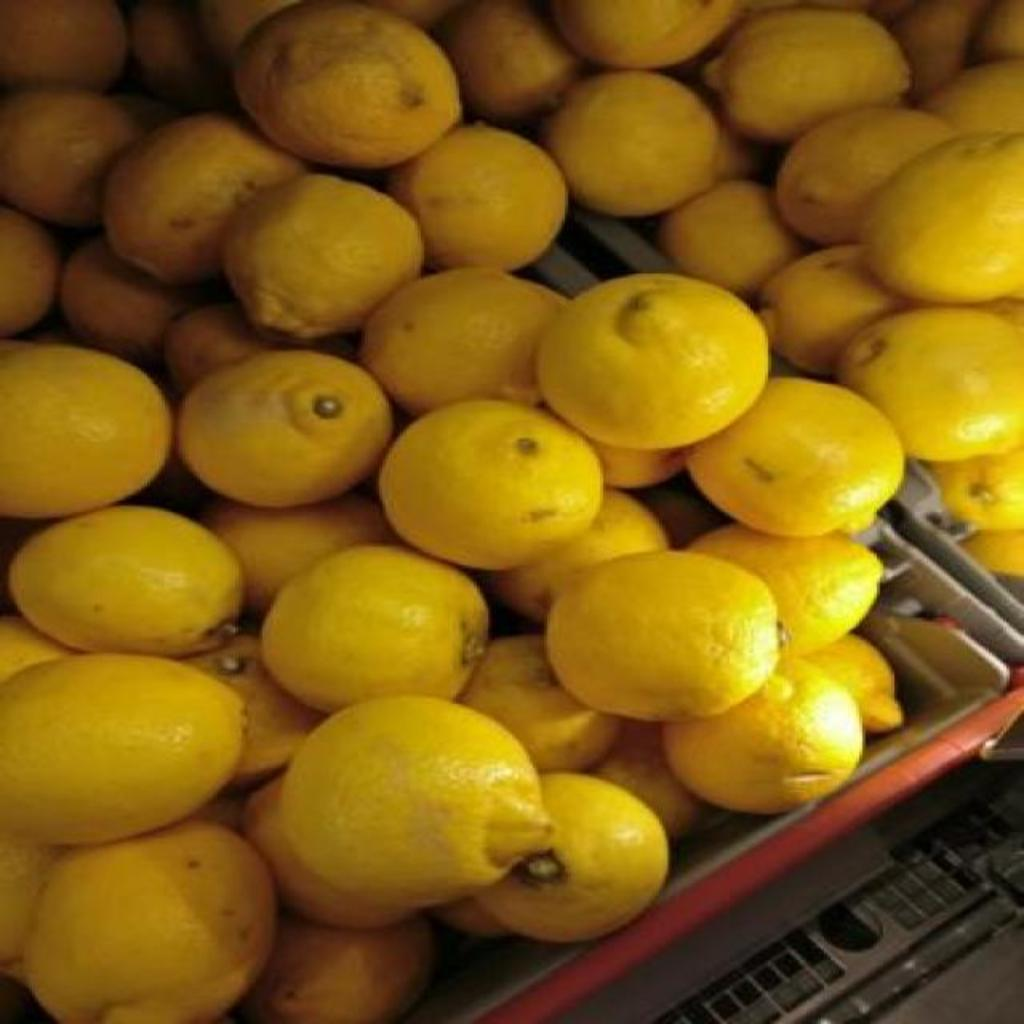lemon: (248, 696, 552, 927), (24, 820, 276, 1024), (0, 654, 244, 844), (536, 274, 770, 450), (546, 552, 780, 721), (378, 400, 602, 569), (236, 2, 460, 168), (264, 546, 486, 711), (102, 114, 306, 283), (686, 378, 904, 536), (10, 506, 242, 653), (178, 350, 392, 507), (222, 174, 424, 338), (476, 774, 668, 942), (664, 658, 864, 813), (0, 344, 172, 517), (360, 268, 564, 413), (840, 308, 1024, 461), (864, 134, 1024, 303), (390, 126, 566, 269), (722, 8, 910, 141), (548, 72, 720, 216), (690, 524, 882, 653), (776, 108, 956, 243), (490, 488, 668, 621), (202, 494, 394, 611), (460, 636, 620, 772), (242, 914, 434, 1024), (188, 634, 324, 783), (0, 90, 138, 225), (762, 244, 904, 373), (436, 0, 580, 120), (658, 180, 802, 295), (62, 238, 186, 363), (594, 720, 700, 839), (552, 1, 740, 68), (130, 0, 228, 109), (804, 634, 904, 733), (892, 0, 985, 99), (164, 306, 270, 391), (928, 446, 1024, 530), (0, 206, 60, 337), (926, 60, 1024, 133), (0, 616, 70, 683), (962, 530, 1024, 577)
